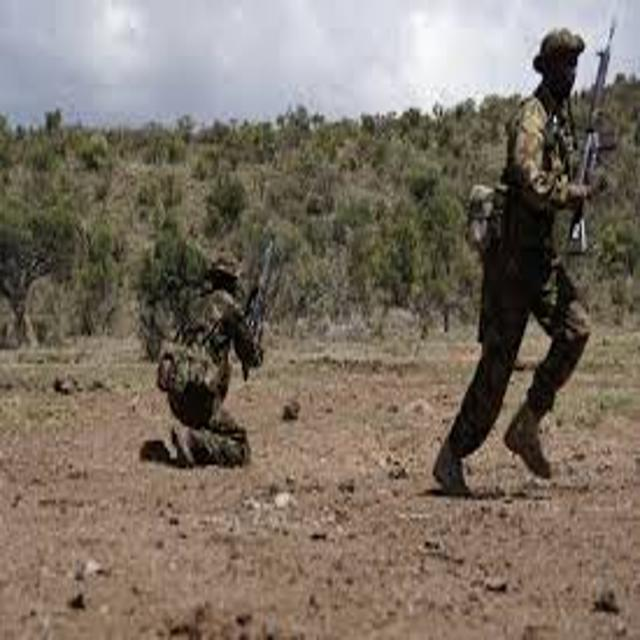backpack: (138, 278, 256, 429), (432, 155, 519, 275)
gun: (549, 1, 631, 278)
poacher: (383, 14, 640, 515), (112, 227, 323, 510)
